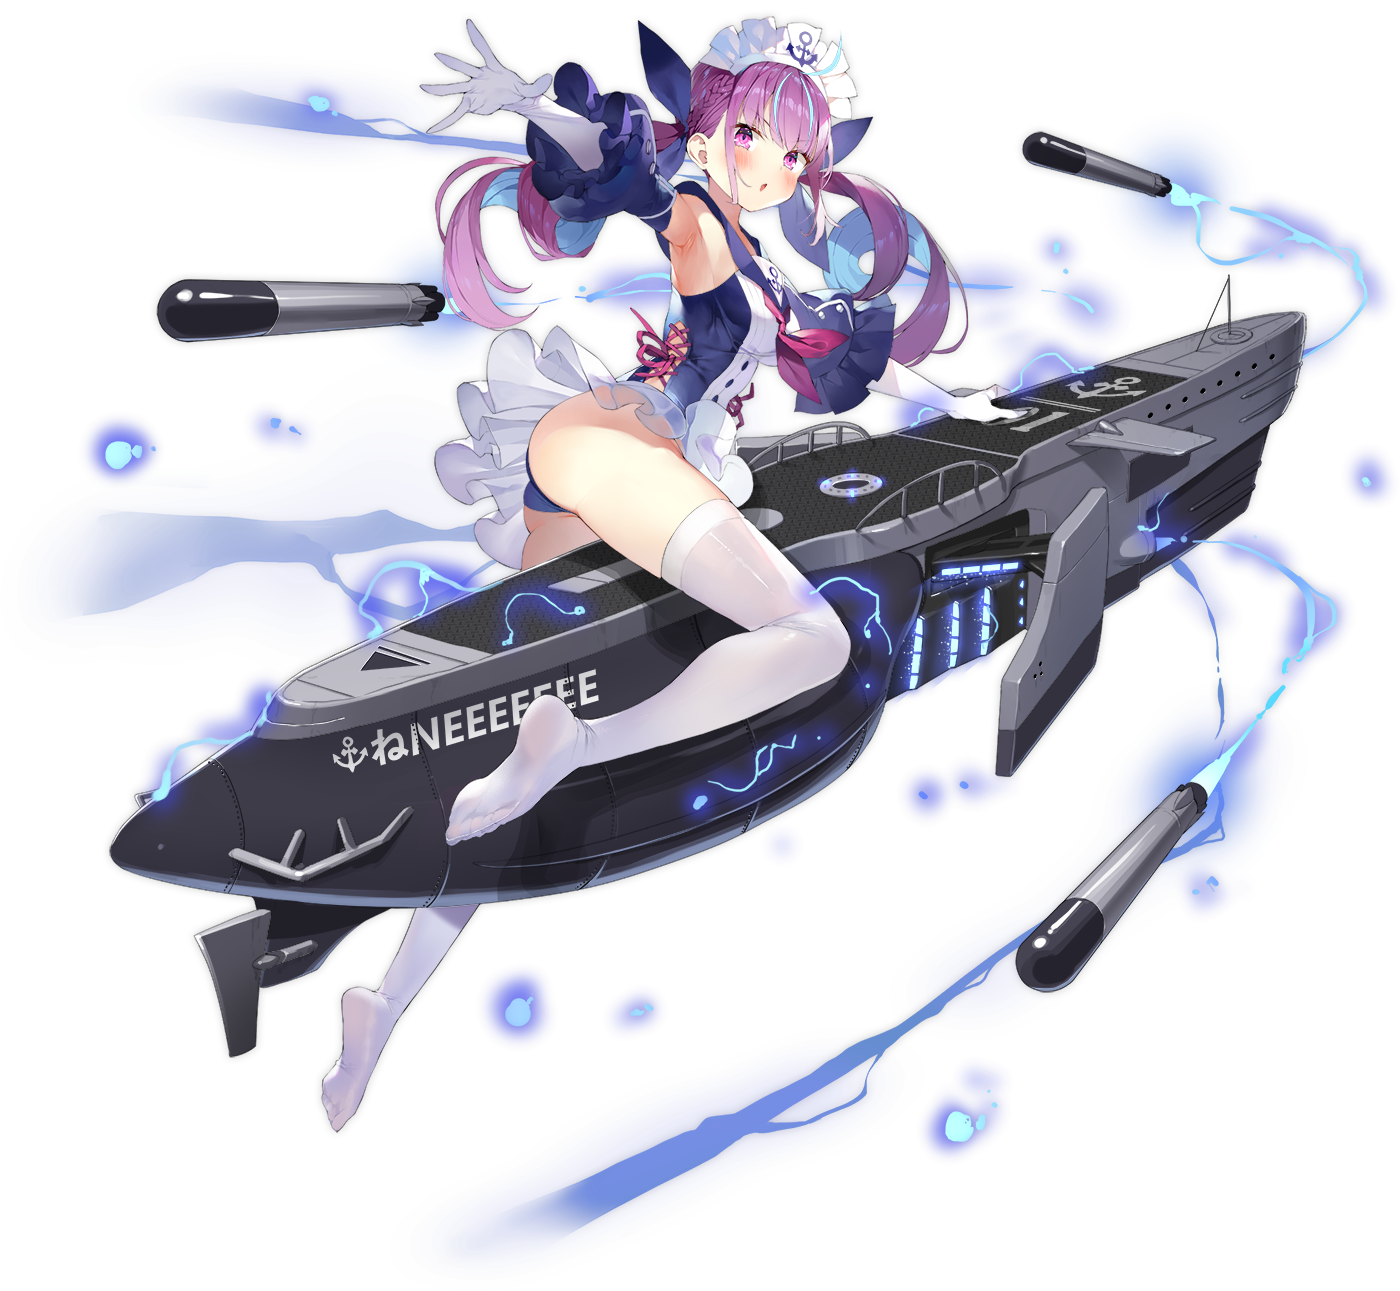person: (368, 36, 891, 866)
